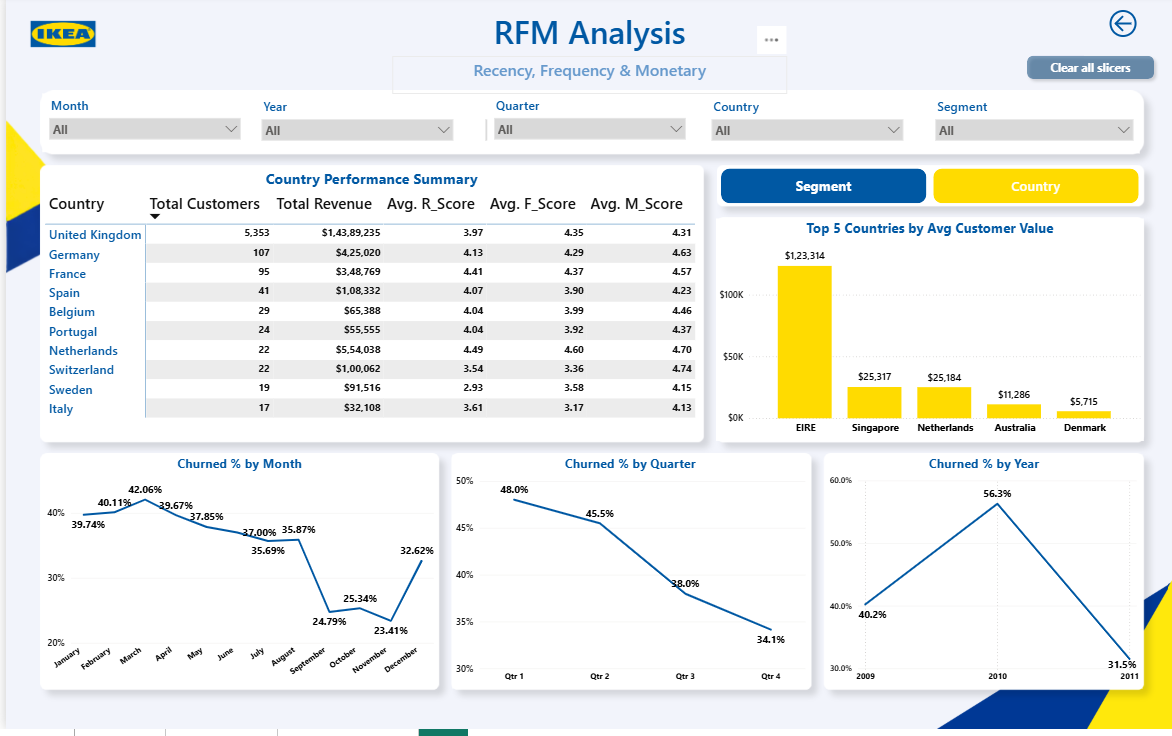

The page's visual inventory and layout, read from the dashboard file:
{"tool":"powerbi","page":{"name":"RFM Analysis","canvas":[1750,1100],"ordinal":2},"visuals":[{"type":"slicer","fields":{"Values":["EcommerceData.InvoiceDate.Variation.Date Hierarchy.Month"]},"box":[54.4,146.2,307.4,88.1],"z":0},{"type":"pivotTable","title":"Country Performance Summary","fields":{"Rows":["EcommerceData.Country"],"Values":["EcommerceData.Total Customers","EcommerceData.Total Revenue","Avg(EcommerceData.R_Score)","Avg(EcommerceData.F_Score)","Avg(EcommerceData.M_Score)"]},"box":[54.8,259.5,987.9,404.9],"z":0,"group":"g2"},{"type":"lineChart","fields":{"Category":["EcommerceData.InvoiceDate.Variation.Date Hierarchy.Month"],"Y":["EcommerceData.Churned %"]},"box":[54.4,688,592.4,350.5],"z":0,"group":"g1"},{"type":"slicer","fields":{"Values":["EcommerceData.InvoiceDate.Variation.Date Hierarchy.Year"]},"box":[373,148.1,307.4,88.1],"z":1000},{"type":"columnChart","title":"Top 5 Countries by Avg Customer Value","fields":{"Category":["EcommerceData.Country"],"Y":["EcommerceData.Avg Customer Value"]},"box":[1064.6,333.6,641.9,333.8],"z":1000,"group":"g2"},{"type":"lineChart","fields":{"Category":["EcommerceData.InvoiceDate.Variation.Date Hierarchy.Quarter"],"Y":["EcommerceData.Churned %"]},"box":[669.3,688,534.3,350.5],"z":1000,"group":"g1"},{"type":"slicer","fields":{"Values":["EcommerceData.InvoiceDate.Variation.Date Hierarchy.Month"]},"box":[708.6,148.1,307.4,88.1],"z":2000},{"type":"lineChart","fields":{"Category":["EcommerceData.InvoiceDate.Variation.Date Hierarchy.Year"],"Y":["EcommerceData.Churned %"]},"box":[1229.8,688,474.3,350.5],"z":2000,"group":"g1"},{"type":"slicer","fields":{"Values":["EcommerceData.InvoiceDate.Variation.Date Hierarchy.Quarter"]},"box":[721.7,146.2,307.4,88.1],"z":3000},{"type":"slicer","fields":{"Values":["EcommerceData.Country"]},"box":[1047.9,148.1,307.4,88.1],"z":4000},{"type":"slicer","fields":{"Values":["EcommerceData.Segment"]},"box":[1383.4,148.1,316.8,88.1],"z":5000},{"type":"group","id":"g1","title":"Revenue","box":[54.4,688,1649.6,350.5],"z":7000},{"type":"image","box":[0,15,170.6,84.4],"z":8000},{"type":"textbox","box":[578.8,15,592.4,103.1],"z":9000},{"type":"textbox","box":[578.8,90,592.4,58.1],"z":10000},{"type":"actionButton","box":[1617.8,15,114.3,52.5],"z":11000},{"type":"actionButton","box":[1522.9,80,208.6,52.9],"z":12000},{"type":"bookmarkNavigator","box":[1072.3,258.7,628,52.5],"z":13000},{"type":"group","id":"g2","title":"Country","box":[54.8,259.5,1651.7,407.9],"z":15000}]}

Visuals, with their boxes in screenshot pixels (x1, y1, x2, y2), scaled from the page's 1750x1100 canvas onto the 1172x736 screenshot:
slicer - EcommerceData.InvoiceDate.Variation.Date Hierarchy.Month: <bbox>36, 98, 242, 157</bbox>
"Country Performance Summary" pivotTable: <bbox>37, 174, 698, 445</bbox>
lineChart - EcommerceData.InvoiceDate.Variation.Date Hierarchy.Month x EcommerceData.Churned %: <bbox>36, 460, 433, 695</bbox>
slicer - EcommerceData.InvoiceDate.Variation.Date Hierarchy.Year: <bbox>250, 99, 456, 158</bbox>
"Top 5 Countries by Avg Customer Value" columnChart: <bbox>713, 223, 1143, 447</bbox>
lineChart - EcommerceData.InvoiceDate.Variation.Date Hierarchy.Quarter x EcommerceData.Churned %: <bbox>448, 460, 806, 695</bbox>
slicer - EcommerceData.InvoiceDate.Variation.Date Hierarchy.Month: <bbox>475, 99, 680, 158</bbox>
lineChart - EcommerceData.InvoiceDate.Variation.Date Hierarchy.Year x EcommerceData.Churned %: <bbox>824, 460, 1141, 695</bbox>
slicer - EcommerceData.InvoiceDate.Variation.Date Hierarchy.Quarter: <bbox>483, 98, 689, 157</bbox>
slicer - EcommerceData.Country: <bbox>702, 99, 908, 158</bbox>
slicer - EcommerceData.Segment: <bbox>926, 99, 1139, 158</bbox>
"Revenue" group: <bbox>36, 460, 1141, 695</bbox>
image: <bbox>0, 10, 114, 67</bbox>
textbox: <bbox>388, 10, 784, 79</bbox>
textbox: <bbox>388, 60, 784, 99</bbox>
actionButton: <bbox>1083, 10, 1160, 45</bbox>
actionButton: <bbox>1020, 54, 1160, 89</bbox>
bookmarkNavigator: <bbox>718, 173, 1139, 208</bbox>
"Country" group: <bbox>37, 174, 1143, 447</bbox>
